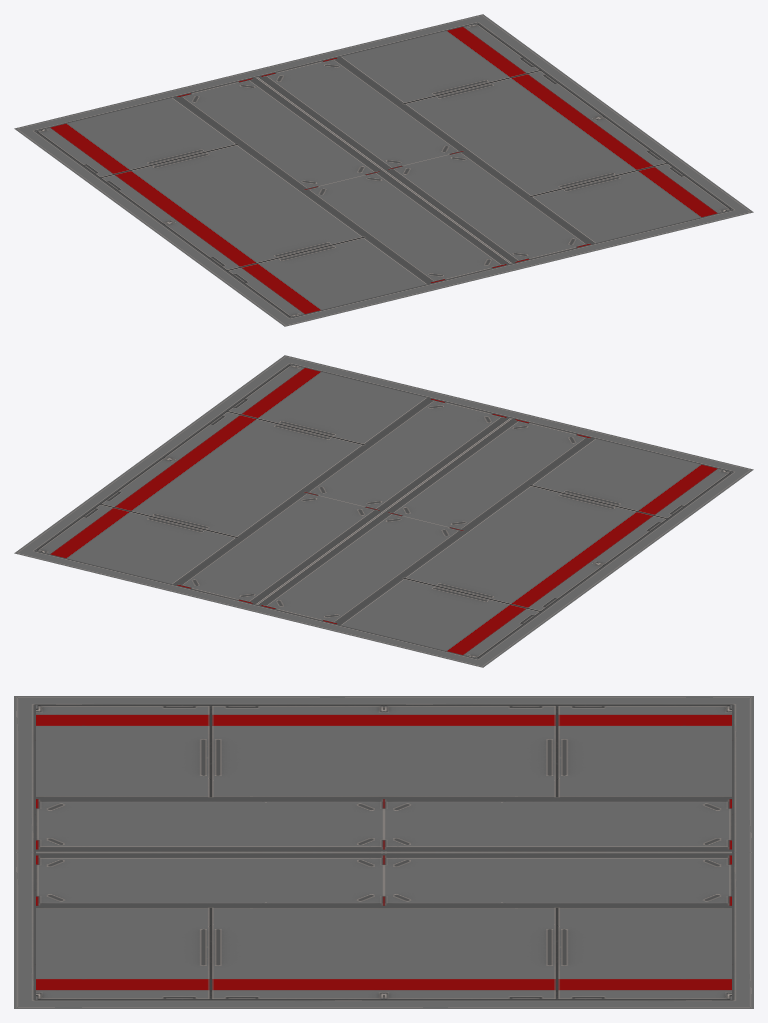
The model's file is platform_metal2.glb.
The picture shows the model from 3 angles, top to bottom: view 1: azimuth 30°, elevation 25°; view 2: azimuth 150°, elevation 25°; view 3: azimuth 270°, elevation 25°; orthographic projection. The views are drawn at different scales.
Visible parts, largest first — view 1: Platform_Metal2; view 2: Platform_Metal2; view 3: Platform_Metal2.
Boxes of the visible parts, x1,y1,x2,y2 form: Platform_Metal2: [14, 14, 753, 326]; Platform_Metal2: [14, 355, 753, 667]; Platform_Metal2: [14, 696, 753, 1008].
Bounding box in the file's own units: 4 × 0 × 4.
Materials: 1 (1 with a texture image).
